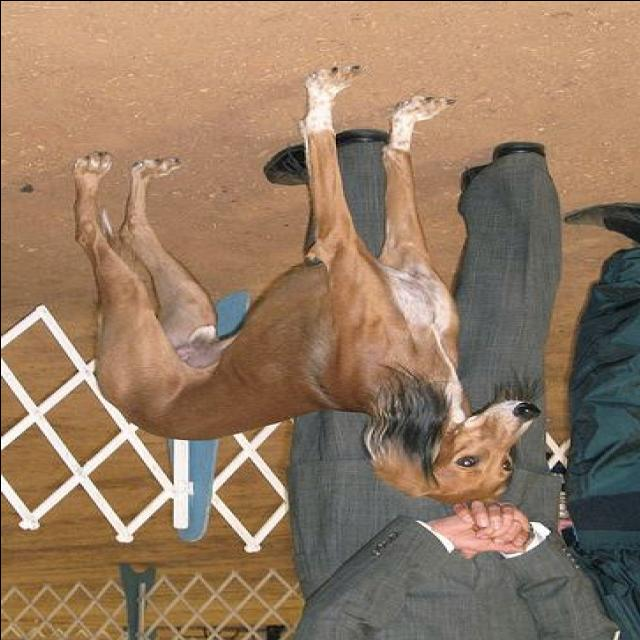saluki: (72, 66, 540, 504)
